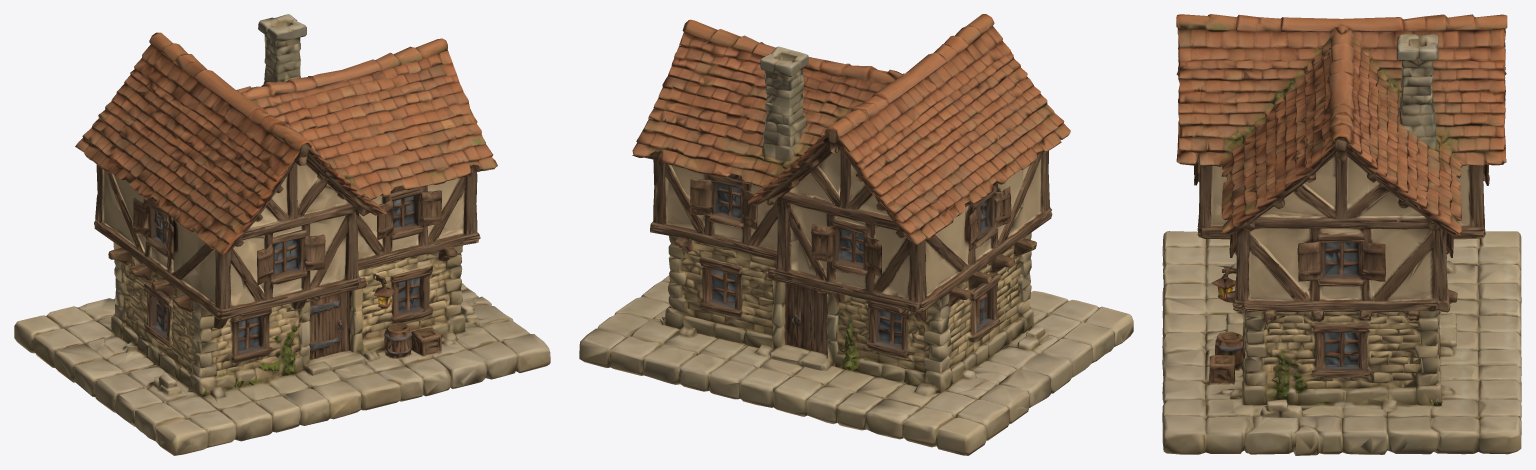
File: casa_lateral_vila_baltazar.glb
3 renders of one model, left to right at view 1: azimuth 30°, elevation 25°; view 2: azimuth 150°, elevation 25°; view 3: azimuth 270°, elevation 25°, orthographic. The views are drawn at different scales.
Bounding box in the file's own units: 0.9804 × 0.7387 × 0.726.
Materials: 1 (1 with a texture image).
